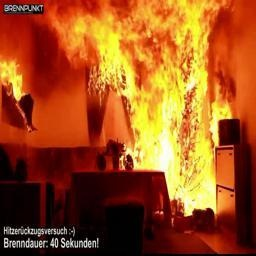fire: (3, 2, 255, 162)
